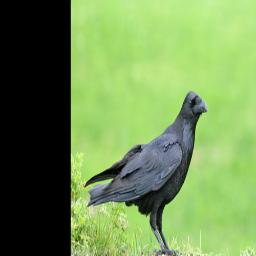Crow: (83, 89, 209, 256)
